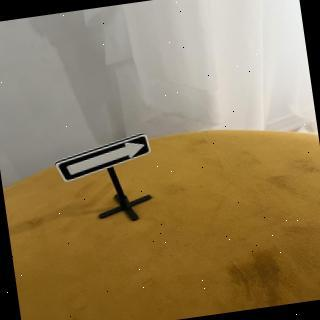sign_oneway_right: (53, 132, 156, 185)
